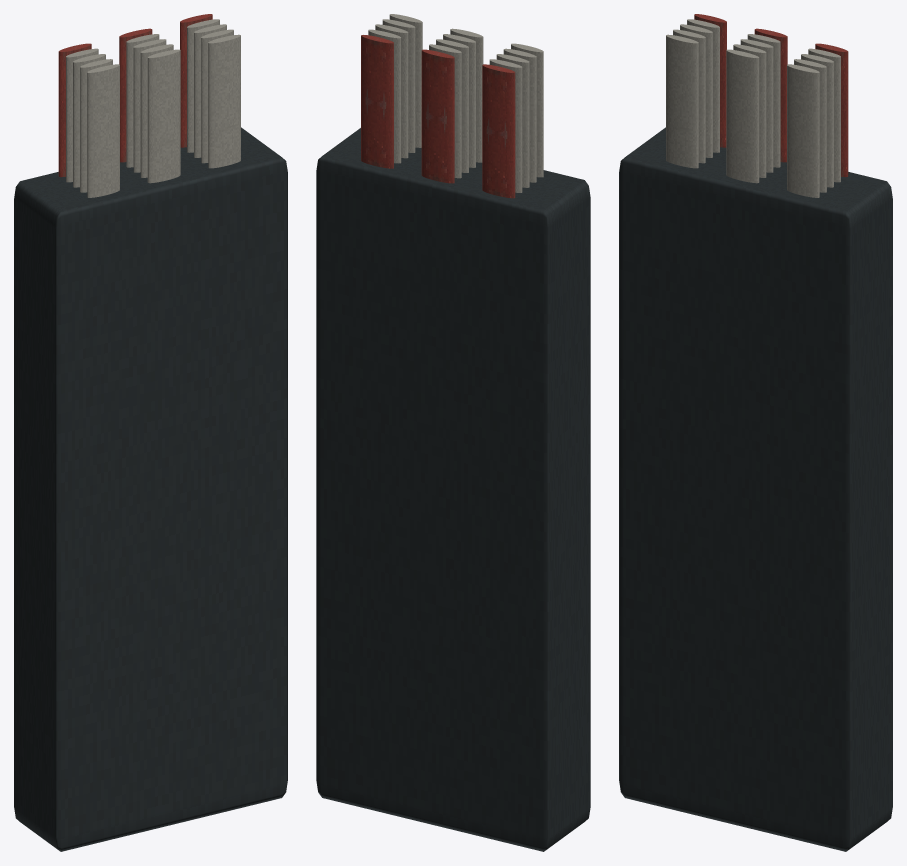
The model's file is remote.glb.
The picture shows the model from 3 angles, left to right: view 1: azimuth 30°, elevation 25°; view 2: azimuth 150°, elevation 25°; view 3: azimuth 330°, elevation 25°; orthographic projection.
Visible parts, largest first — view 1: case, button (×15); view 2: case, button (×15); view 3: case, button (×15).
Boxes of the visible parts, x1,y1,x2,y2 form: case: [14, 127, 287, 851]; button (×15): [58, 14, 240, 197]; case: [316, 128, 590, 851]; button (×15): [361, 14, 543, 198]; case: [619, 127, 892, 851]; button (×15): [666, 14, 848, 197].
Bounding box in the file's own units: 0.053 × 0.1666 × 0.017.
3 materials, 3 textured.
